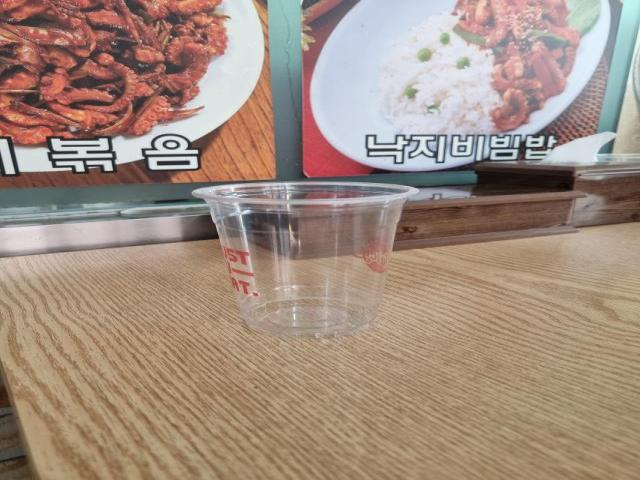cup: (194, 182, 416, 340)
